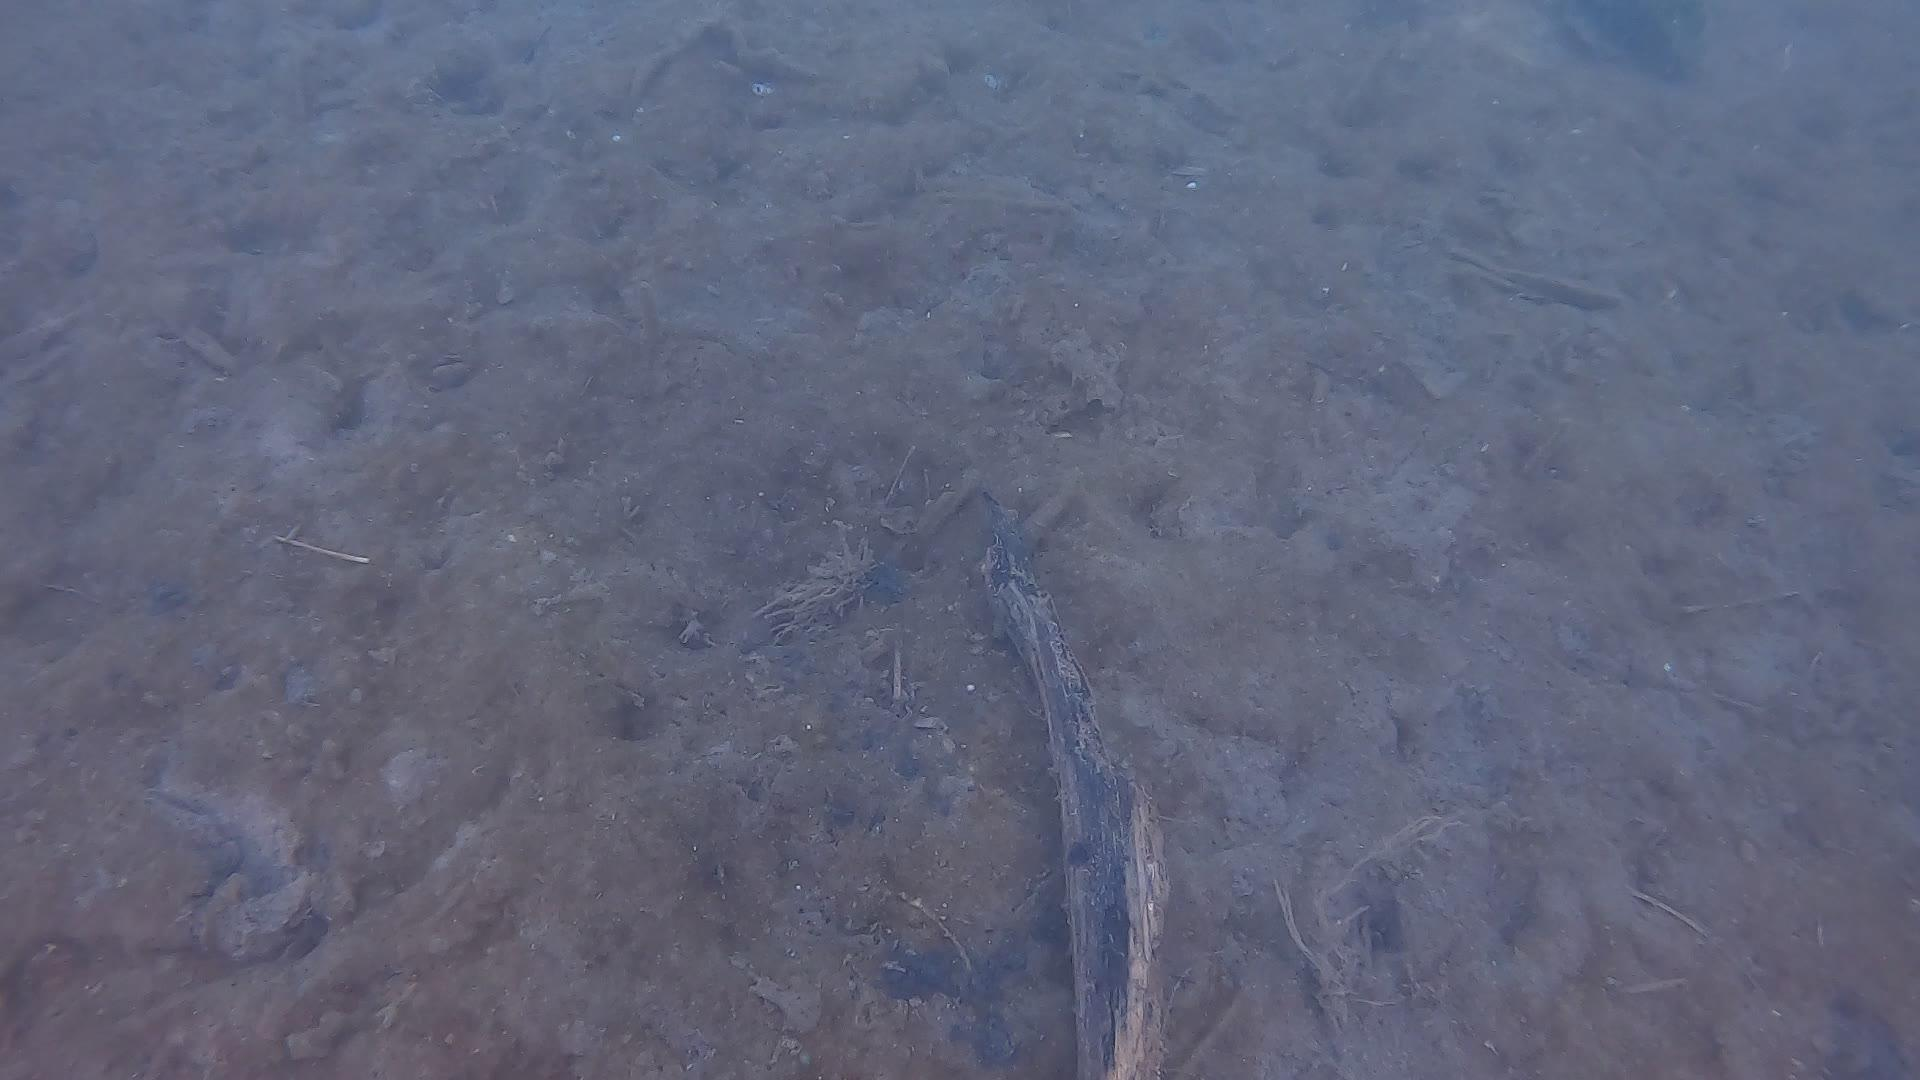wood: (975, 483, 1174, 1080)
